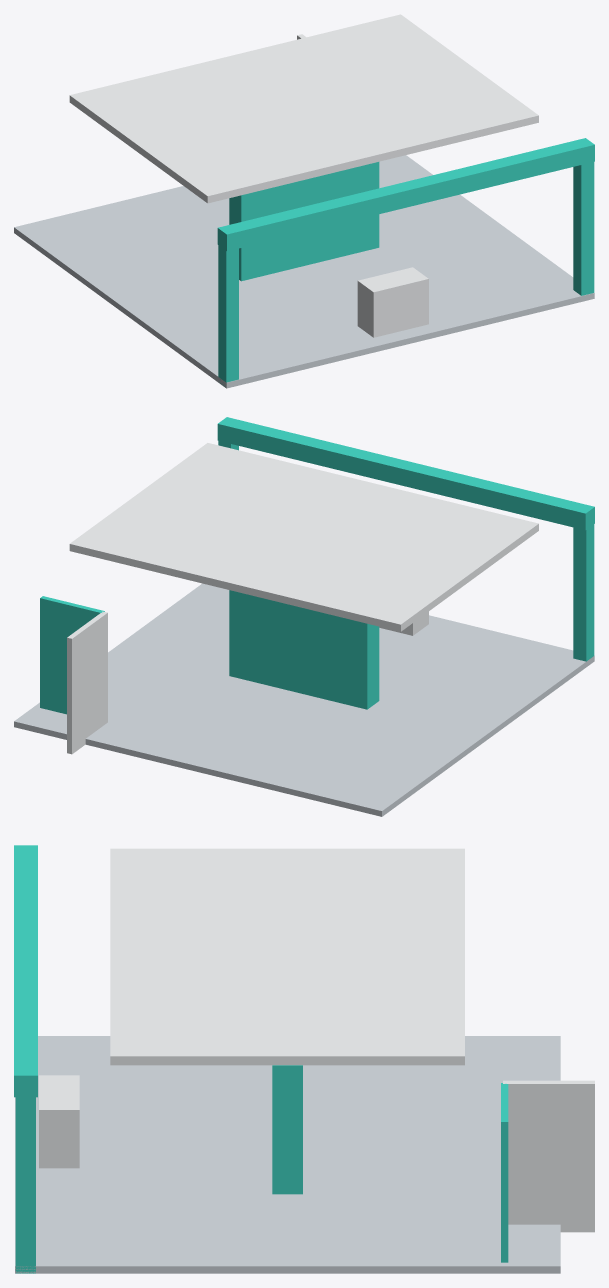
The picture shows the model from 3 angles, top to bottom: view 1: azimuth 30°, elevation 25°; view 2: azimuth 150°, elevation 25°; view 3: azimuth 270°, elevation 25°; orthographic projection. The views are drawn at different scales.
Parts seen in each view (by area): view 1: Exhibition Booth Concept; view 2: Exhibition Booth Concept; view 3: Exhibition Booth Concept.
Part boxes in pixels (<box>): Exhibition Booth Concept: <box>14,14,594,388</box>; Exhibition Booth Concept: <box>14,417,594,816</box>; Exhibition Booth Concept: <box>14,845,594,1273</box>.
Size of the model in its own units: 8 by 3.34 by 8.52.
